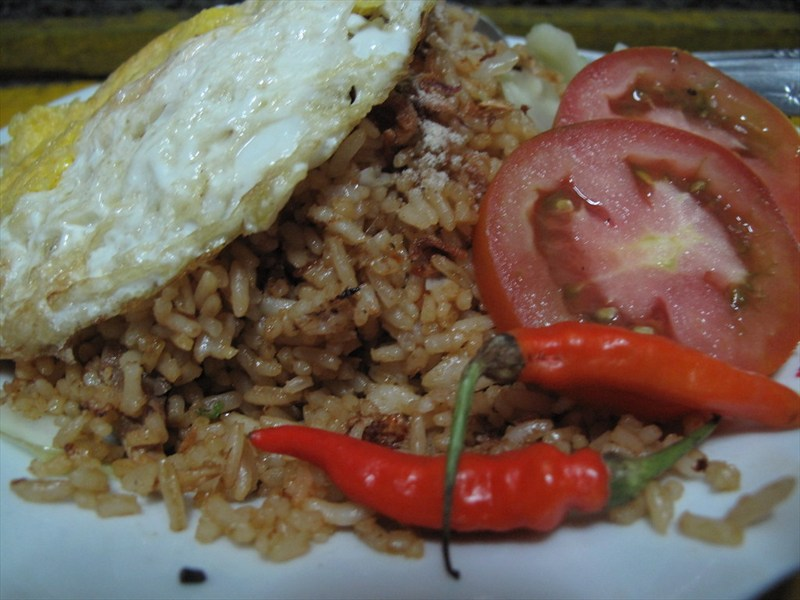Nasi Goreng: (112, 54, 688, 526)
